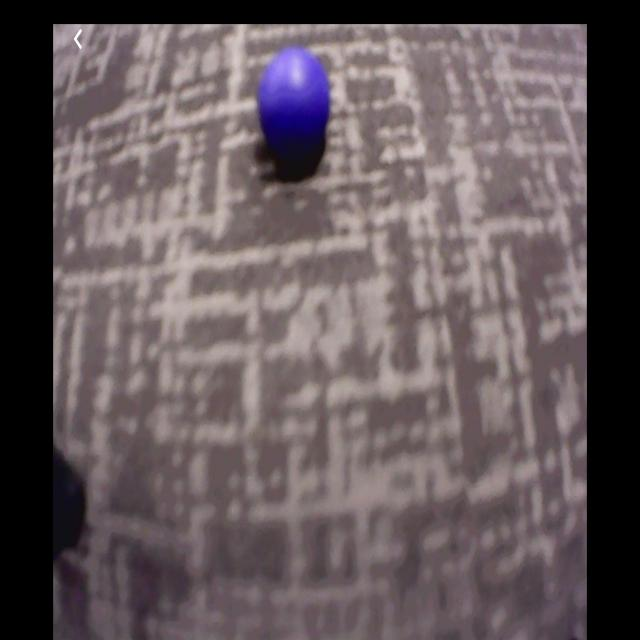ball: (258, 47, 331, 155)
